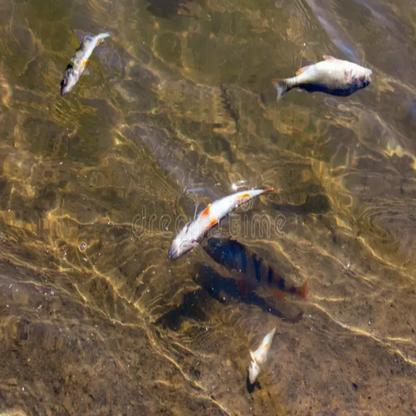deceased fish: (166, 187, 277, 259), (268, 53, 375, 102), (56, 29, 111, 96), (244, 326, 277, 385)
